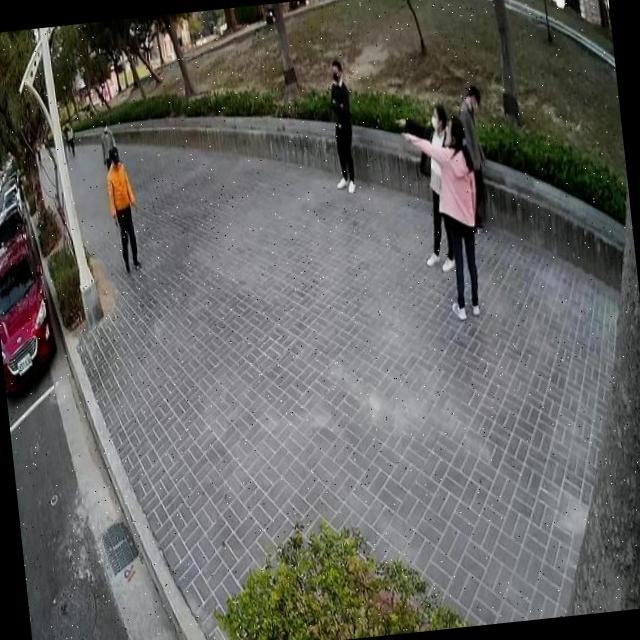person: (398, 104, 492, 325), (392, 96, 465, 277), (454, 79, 497, 234), (101, 138, 147, 280), (319, 52, 362, 198), (96, 114, 122, 176)
